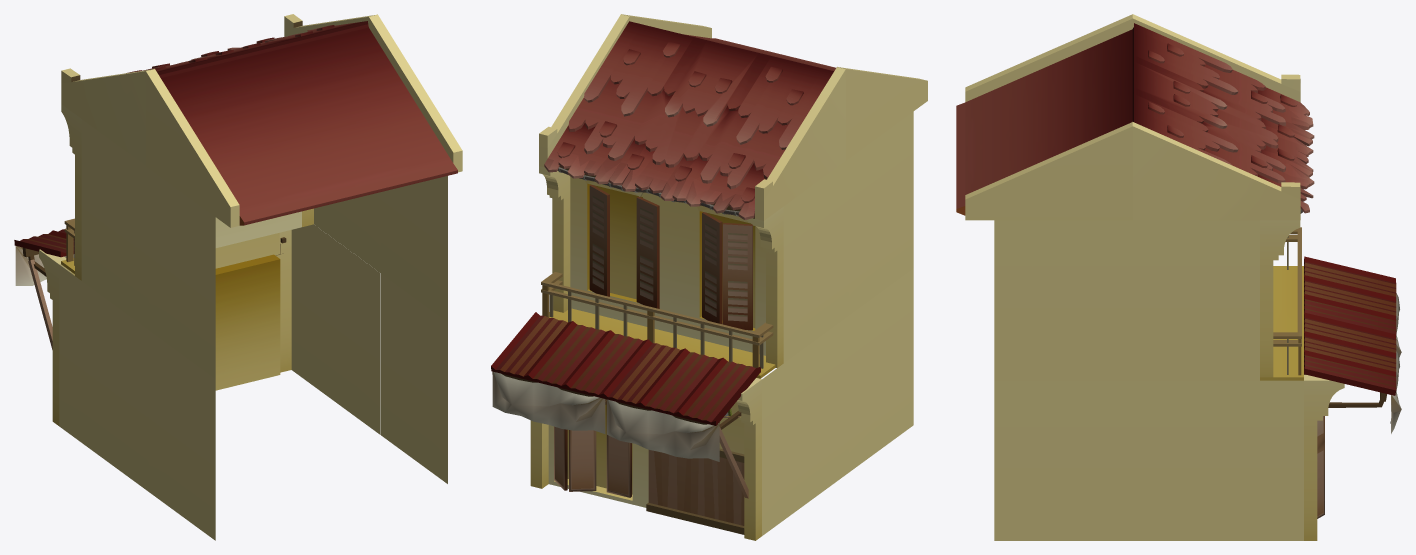
The model's file is SM_Facade_OldQuarter_Double_01.fbx.
3 views of the same model, side by side, from view 1: azimuth 30°, elevation 25°; view 2: azimuth 150°, elevation 25°; view 3: azimuth 270°, elevation 25° (orthographic). The views are drawn at different scales.
Parts seen in each view (by area): view 1: SM_Facade_OldQuarter_Double_01; view 2: SM_Facade_OldQuarter_Double_01; view 3: SM_Facade_OldQuarter_Double_01.
Boxes of the visible parts, x1,y1,x2,y2 form: SM_Facade_OldQuarter_Double_01: (14,14,462,540); SM_Facade_OldQuarter_Double_01: (491,14,927,540); SM_Facade_OldQuarter_Double_01: (956,14,1401,540).
Bounding box in the file's own units: 605 × 1035 × 1007.
